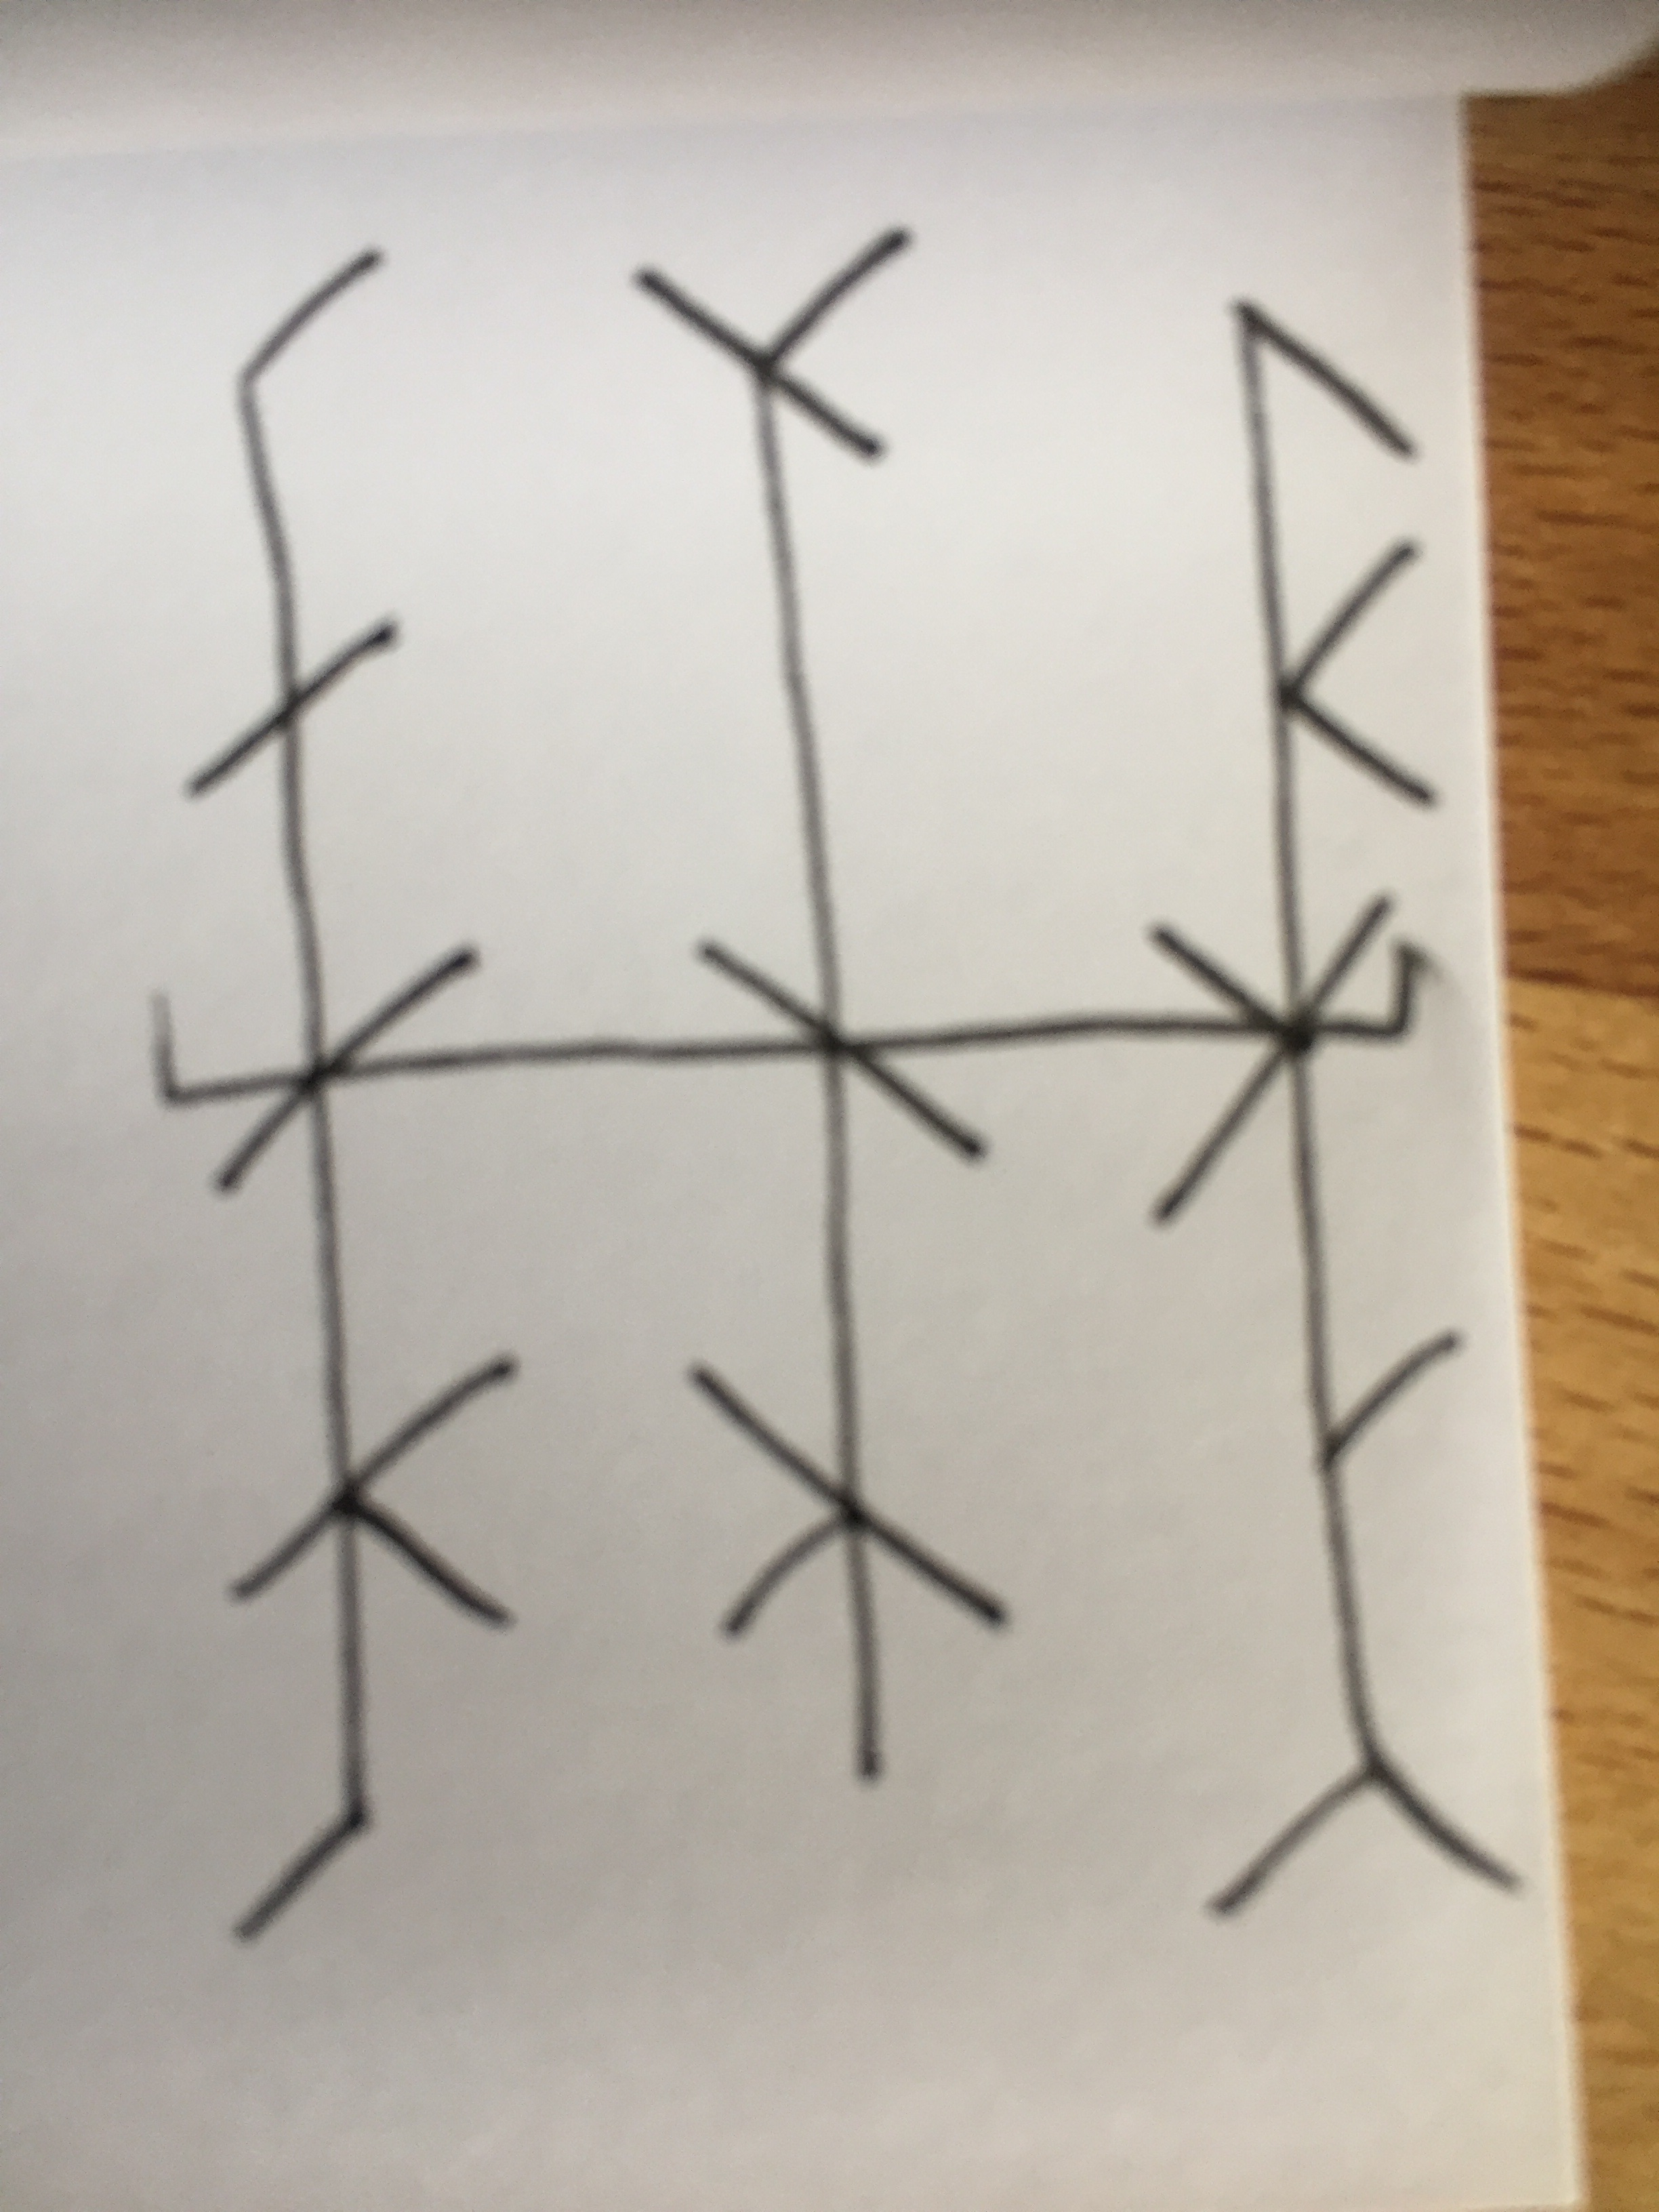Bar: (1147, 296, 1527, 1919), (631, 223, 1016, 1787), (181, 244, 519, 1939)
Barcode: (143, 226, 1527, 1940)
End: (1373, 941, 1436, 1043)
Start: (143, 989, 277, 1111)
